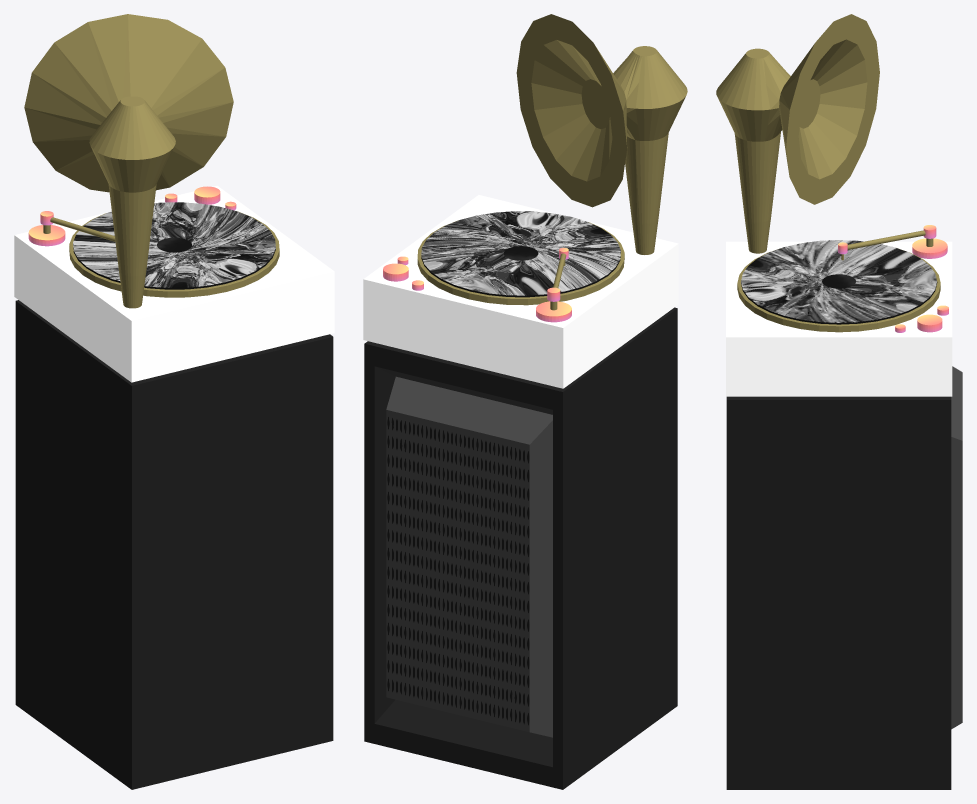
Rendered from boiteAMusic.glb.
The picture shows the model from 3 angles, left to right: view 1: azimuth 30°, elevation 25°; view 2: azimuth 150°, elevation 25°; view 3: azimuth 270°, elevation 25°; orthographic projection. The views are drawn at different scales.
Parts seen in each view (by area): view 1: son, Cylinder.065, platine, Cylinder.064, Cylinder.012, Cylinder.058; view 2: son, platine, Cylinder.065, Cylinder.064, Cylinder.012, Cylinder.058; view 3: son, Cylinder.065, platine, Cylinder.064, Cylinder.012, Cylinder.058, Cylinder.061.
Boxes of the visible parts, x1,y1,x2,y2 form: son: (15,300,333,789); Cylinder.065: (24,14,233,308); platine: (14,185,334,382); Cylinder.064: (73,202,275,289); Cylinder.012: (69,211,279,297); Cylinder.058: (28,225,65,246); son: (364,307,677,789); platine: (363,195,678,388); Cylinder.065: (516,14,687,254); Cylinder.064: (421,211,620,297); Cylinder.012: (417,220,624,305); Cylinder.058: (536,301,571,322); son: (726,366,962,789); Cylinder.065: (716,14,879,253); platine: (726,241,952,396); Cylinder.064: (741,240,937,324); Cylinder.012: (737,252,940,332); Cylinder.058: (912,238,947,258); Cylinder.061: (847,230,925,249).
Bounding box in the file's own units: 2.27 × 6.8 × 2.18.
Materials: 5 (3 with a texture image).
